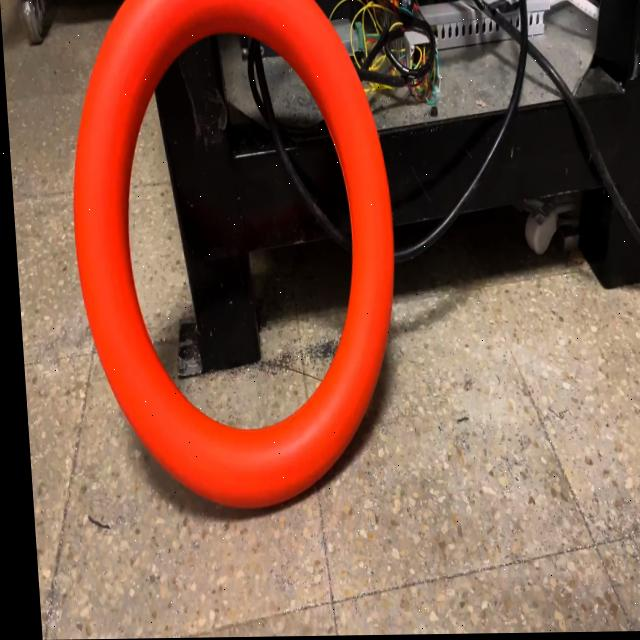note: (57, 0, 407, 517)
